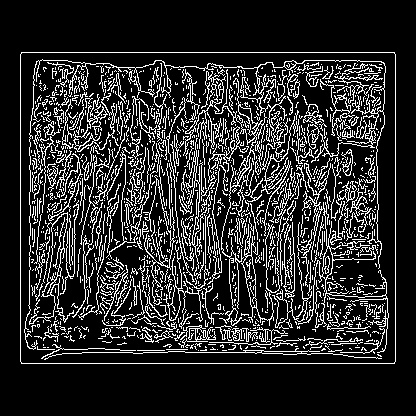buddha-standing: (68, 197, 188, 258)
